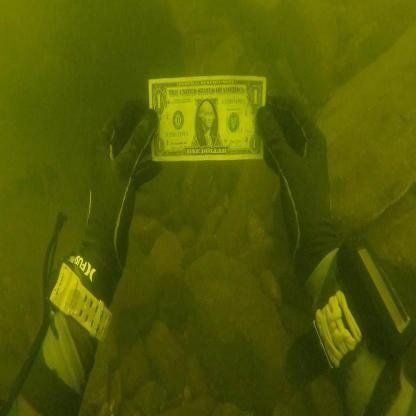misc: (147, 74, 268, 163)
